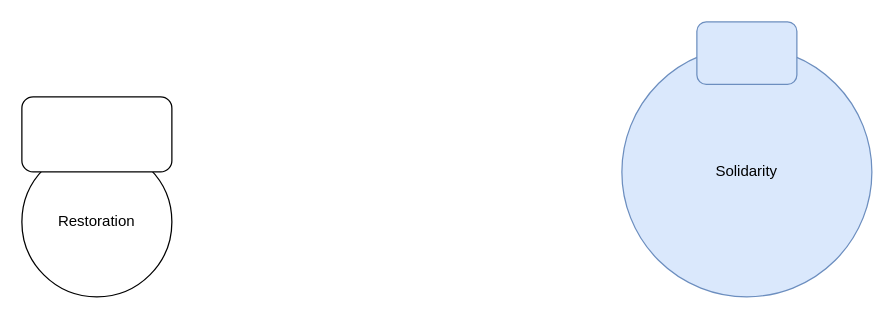
Image size: 894x319. Some labels were removed from this diagram. Each missing label, with the box of its shape:
Eleanor Maple: (696, 21, 797, 84)
Jasper Baura: (21, 96, 172, 172)
